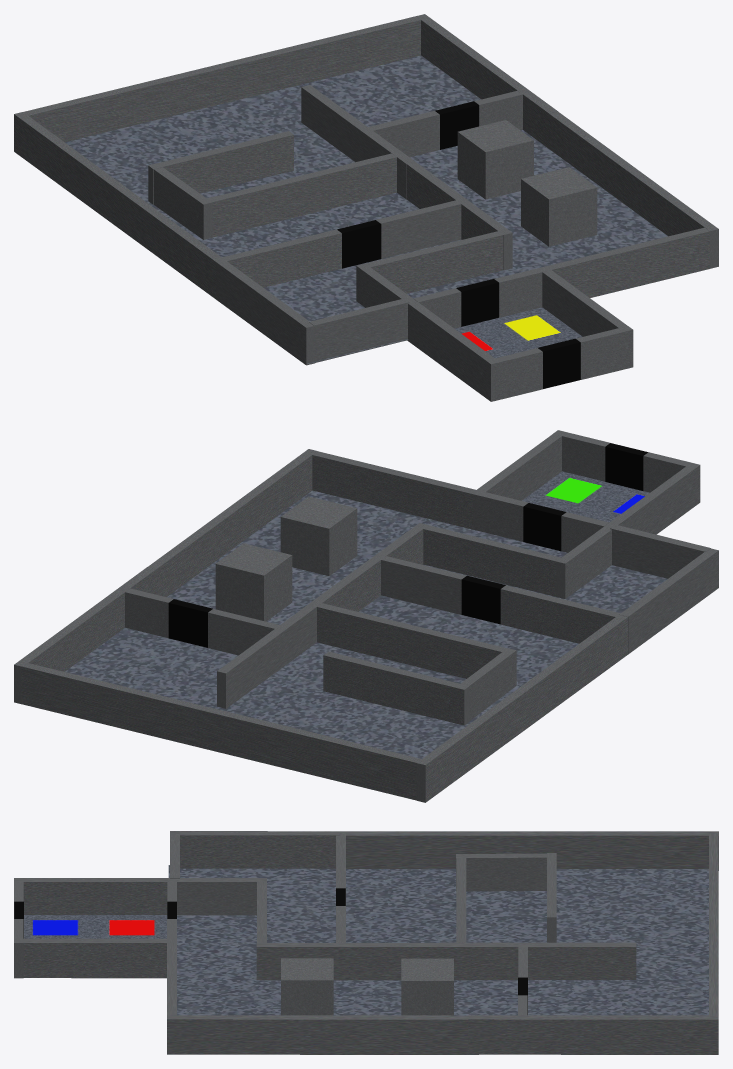
File: Thirdlevel.fbx
3 views of the same model, one above another, from view 1: azimuth 30°, elevation 25°; view 2: azimuth 150°, elevation 25°; view 3: azimuth 270°, elevation 25° (orthographic). The views are drawn at different scales.
Parts seen in each view (by area): view 1: pPlane3, polySurface41, polySurface45, polySurface43, polySurface36, polySurface24, polySurface42, pCube12, pCube19, polySurface32, polySurface40, polySurface31 (+20 smaller); view 2: pPlane3, polySurface41, polySurface45, polySurface36, polySurface43, polySurface24, polySurface42, polySurface32, pCube19, pCube12, polySurface39, polySurface40 (+20 smaller); view 3: pPlane3, polySurface45, polySurface36, polySurface40, polySurface39, polySurface31, polySurface25, polySurface35, polySurface28, pPlane2, polySurface44, polySurface29 (+11 smaller).
Part boxes in pixels (x1,y1,x2,y2): pPlane3: [65, 55, 667, 363]; polySurface41: [18, 15, 422, 142]; polySurface45: [14, 112, 221, 299]; polySurface43: [207, 153, 396, 237]; polySurface36: [543, 110, 718, 268]; polySurface24: [546, 227, 709, 297]; polySurface42: [148, 131, 293, 204]; pCube12: [521, 167, 597, 246]; pCube19: [457, 120, 533, 199]; polySurface32: [364, 231, 503, 293]; polySurface40: [418, 14, 557, 144]; polySurface31: [216, 259, 314, 365]; pPlane3: [65, 490, 667, 758]; polySurface41: [21, 662, 426, 800]; polySurface45: [416, 616, 627, 802]; polySurface36: [148, 449, 317, 596]; polySurface43: [317, 603, 507, 678]; polySurface24: [312, 451, 478, 529]; polySurface42: [323, 651, 469, 725]; polySurface32: [423, 525, 560, 596]; pCube19: [215, 543, 292, 621]; pCube12: [280, 496, 357, 575]; polySurface39: [217, 594, 331, 708]; polySurface40: [14, 567, 156, 703]; pPlane3: [168, 865, 708, 1015]; polySurface45: [335, 831, 718, 870]; polySurface36: [167, 1015, 478, 1054]; polySurface40: [468, 1015, 718, 1054]; polySurface39: [439, 942, 636, 979]; polySurface31: [170, 831, 339, 868]; polySurface25: [22, 938, 166, 978]; polySurface35: [256, 943, 470, 980]; polySurface28: [14, 878, 168, 914]; pPlane2: [24, 915, 167, 938]; polySurface44: [456, 853, 546, 891]; polySurface29: [167, 878, 266, 915].
Size of the model in its own units: 11.43 by 1.35 by 18.1.
